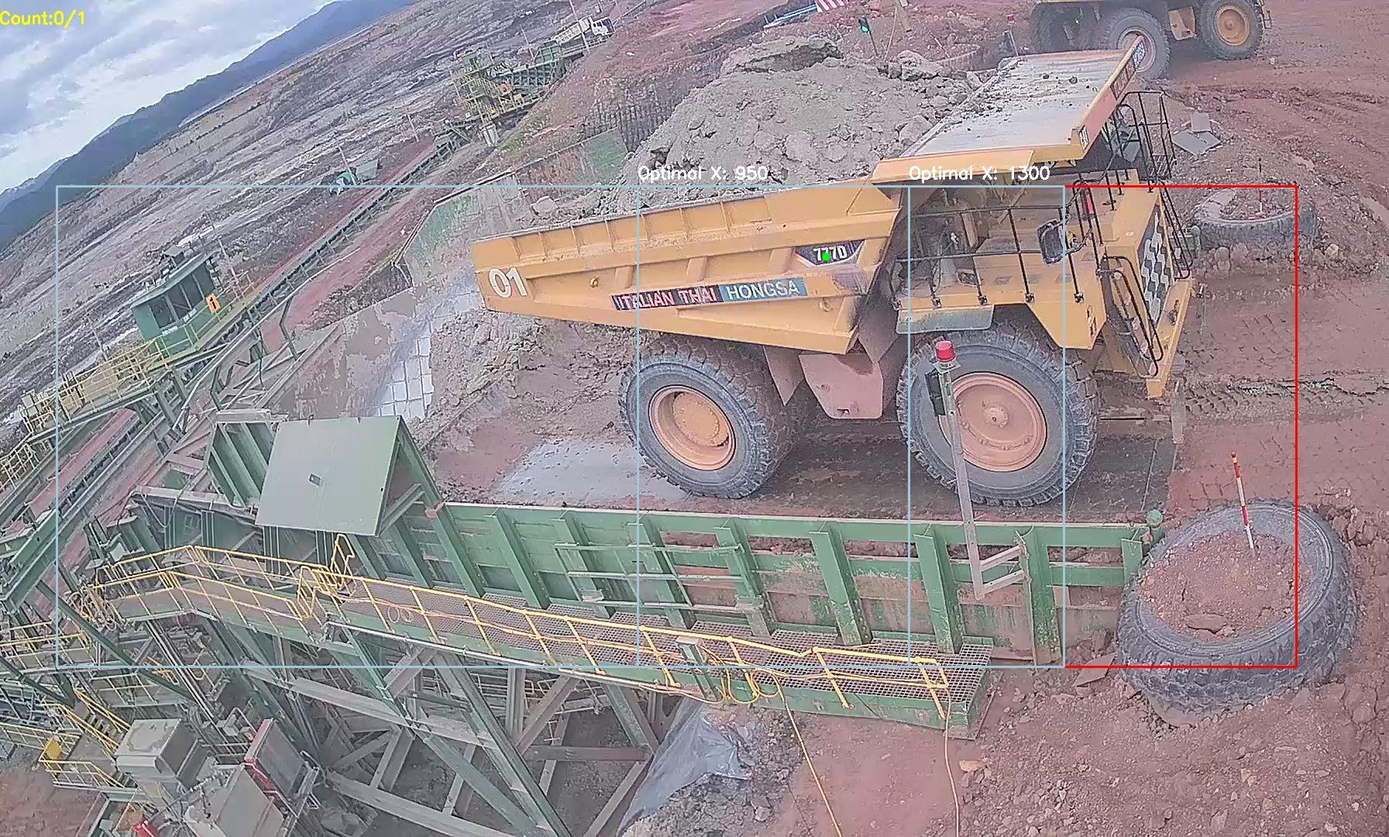company: (600, 277, 823, 317)
full_load: (637, 37, 915, 197)
mining_truck: (464, 22, 1231, 514)
tail_number: (485, 255, 535, 312)
truck_size: (790, 239, 865, 268)
